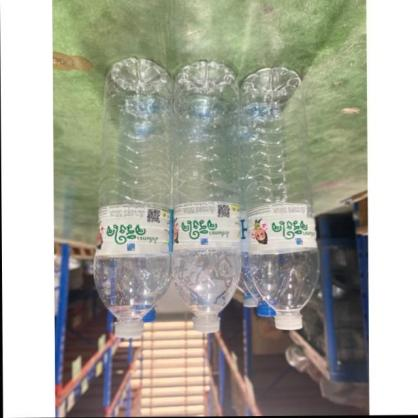bottle: (93, 56, 170, 342), (240, 66, 322, 331), (170, 65, 243, 335)
cap: (111, 320, 143, 340), (274, 310, 303, 330), (191, 314, 221, 333)
label: (94, 204, 172, 258), (243, 201, 318, 255), (170, 202, 242, 253)
